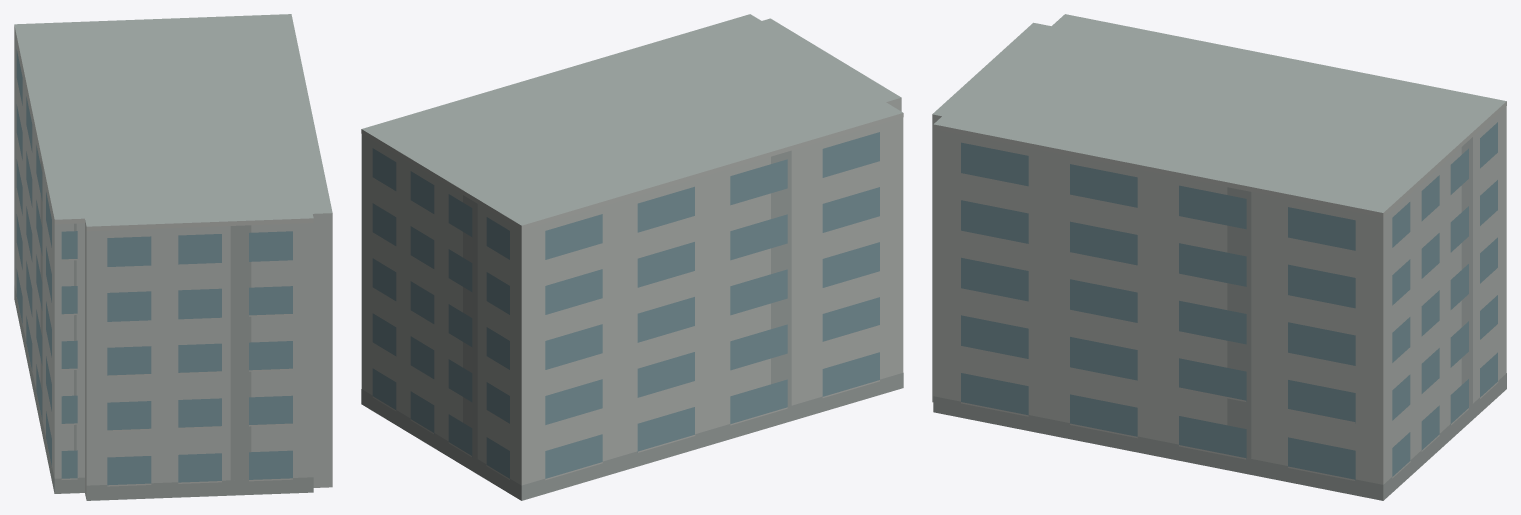
The model's file is residential-dc9fa162-2b16-4b08-9951-5388676d4220.glb.
3 views of the same model, side by side, from view 1: azimuth 30°, elevation 25°; view 2: azimuth 150°, elevation 25°; view 3: azimuth 270°, elevation 25° (orthographic). The views are drawn at different scales.
Visible parts, largest first — view 1: residential-dc9fa162-2b16-4b08-9951-5388676d4220.tmp; view 2: residential-dc9fa162-2b16-4b08-9951-5388676d4220.tmp; view 3: residential-dc9fa162-2b16-4b08-9951-5388676d4220.tmp.
Part boxes in pixels (left/top/right/bottom): residential-dc9fa162-2b16-4b08-9951-5388676d4220.tmp: left=14, top=14, right=332, bottom=500; residential-dc9fa162-2b16-4b08-9951-5388676d4220.tmp: left=361, top=14, right=903, bottom=500; residential-dc9fa162-2b16-4b08-9951-5388676d4220.tmp: left=932, top=14, right=1506, bottom=500.
Size of the model in its own units: 21.36 by 14.4 by 26.06.
